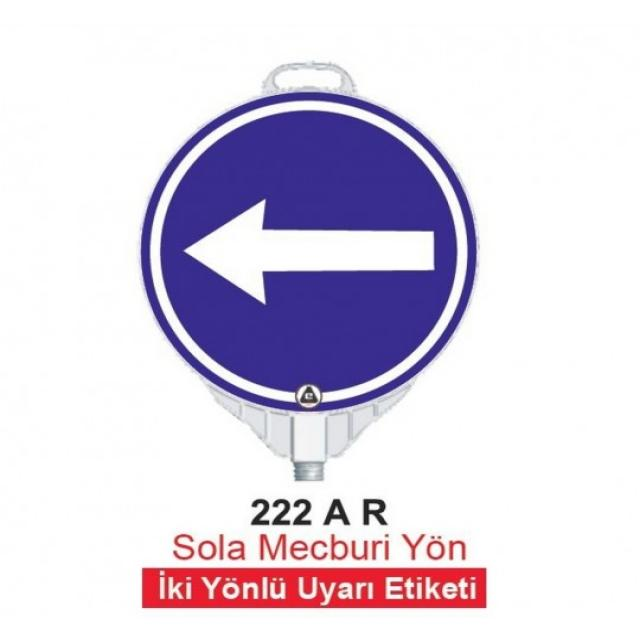SensObligatoire: (140, 91, 481, 414)
